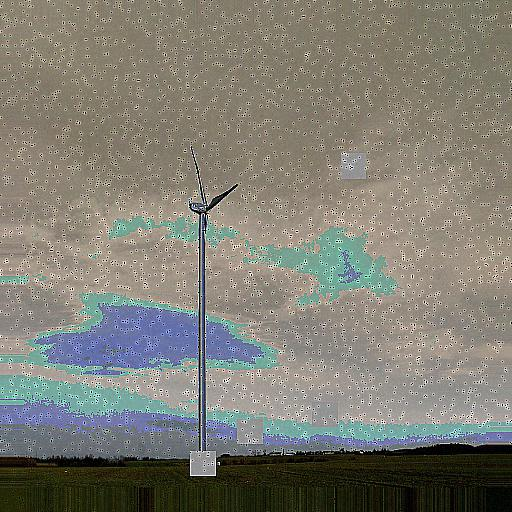wind turbine: (186, 146, 241, 463)
